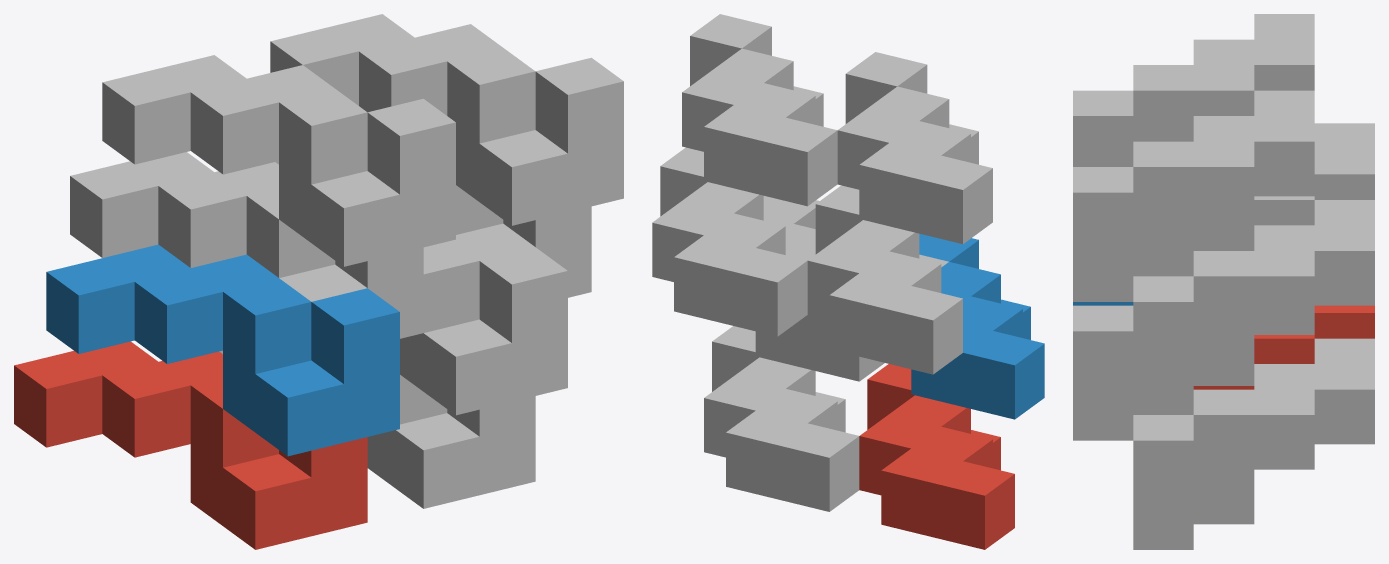
Rendered from tiling.obj.
3 renders of one model, left to right at view 1: azimuth 30°, elevation 25°; view 2: azimuth 150°, elevation 25°; view 3: azimuth 270°, elevation 25°, orthographic. The views are drawn at different scales.
Parts seen in each view (by area): view 1: copy_1_domain_2, copy_1_domain_4, copy_1_domain_8, copy_1_domain_1, copy_1_domain_3, copy_1_domain_6, copy_1_domain_5, copy_1_domain_7; view 2: copy_1_domain_4, copy_1_domain_8, copy_1_domain_1, copy_1_domain_5, copy_1_domain_3, copy_1_domain_7, copy_1_domain_2, copy_1_domain_6; view 3: copy_1_domain_7, copy_1_domain_5, copy_1_domain_8, copy_1_domain_4, copy_1_domain_6, copy_1_domain_3, copy_1_domain_1.
Part boxes in pixels (x1=…): copy_1_domain_2: x1=46, y1=244, x2=399, y2=456; copy_1_domain_4: x1=102, y1=55, x2=455, y2=266; copy_1_domain_8: x1=270, y1=14, x2=623, y2=225; copy_1_domain_1: x1=14, y1=341, x2=367, y2=549; copy_1_domain_3: x1=70, y1=152, x2=423, y2=338; copy_1_domain_6: x1=400, y1=240, x2=567, y2=415; copy_1_domain_5: x1=219, y1=350, x2=535, y2=508; copy_1_domain_7: x1=275, y1=161, x2=591, y2=297; copy_1_domain_4: x1=837, y1=52, x2=992, y2=244; copy_1_domain_8: x1=682, y1=14, x2=837, y2=206; copy_1_domain_1: x1=859, y1=364, x2=1014, y2=549; copy_1_domain_5: x1=704, y1=326, x2=859, y2=511; copy_1_domain_3: x1=807, y1=185, x2=962, y2=374; copy_1_domain_7: x1=652, y1=147, x2=807, y2=336; copy_1_domain_2: x1=911, y1=233, x2=1044, y2=419; copy_1_domain_6: x1=755, y1=196, x2=884, y2=381; copy_1_domain_7: x1=1133, y1=200, x2=1374, y2=411; copy_1_domain_5: x1=1133, y1=338, x2=1374, y2=549; copy_1_domain_8: x1=1073, y1=90, x2=1314, y2=301; copy_1_domain_4: x1=1073, y1=14, x2=1314, y2=166; copy_1_domain_6: x1=1073, y1=305, x2=1314, y2=440; copy_1_domain_3: x1=1193, y1=123, x2=1374, y2=250; copy_1_domain_1: x1=1193, y1=305, x2=1374, y2=389.
Size of the model in its own units: 8 by 7 by 5.
